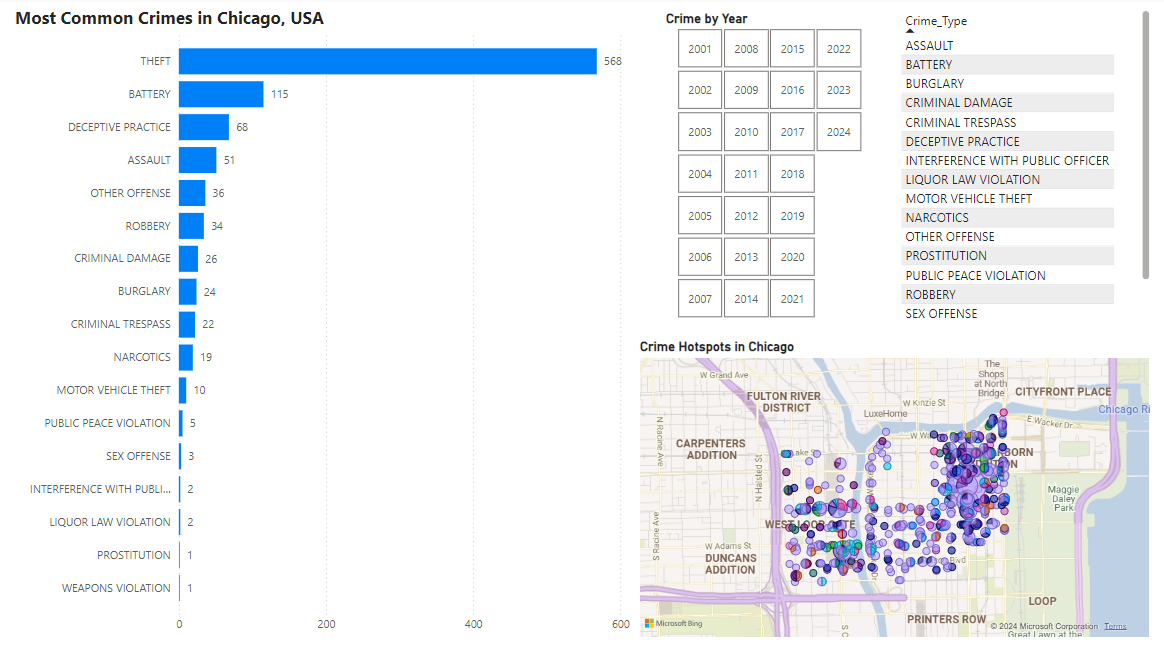

What the dashboard file says about the page in this screenshot:
{"tool":"powerbi","page":{"name":"Most common crime","canvas":[1280,720],"ordinal":0},"visuals":[{"type":"clusteredBarChart","title":"Most Common Crimes in Chicago, USA","fields":{"Category":["chicago_crime.Crime_Type"],"Y":["Count(chicago_crime.Crime_ID)"]},"box":[13.7,11,686.1,697.1],"z":0},{"type":"slicer","title":"Crime Incidents by Year","fields":{"Values":["chicago_crime.Year"]},"box":[720.4,11,251.1,160.5],"z":1000},{"type":"tableEx","fields":{"Values":["chicago_crime.Crime_Type"]},"box":[985.3,11,284,348.5],"z":2000},{"type":"card","title":"Year with Most Crimes","fields":{"Values":["Sum(chicago_crime.Year)"]},"box":[720.4,185.2,251.1,174.3],"z":3000},{"type":"map","fields":{"Y":["Sum(chicago_crime.Latitude)"],"X":["Sum(chicago_crime.Longitude)"],"Size":["Count(chicago_crime.Crime_ID)"],"Series":["chicago_crime.Crime_Type"]},"box":[720.2,376.6,560.1,331.4],"z":4000}]}

Visuals, with their boxes in screenshot pixels (x1, y1, x2, y2), scaled from the page's 1280x720 canvas onto the 1164x651 screenshot:
"Most Common Crimes in Chicago, USA" clusteredBarChart: {"x1": 12, "y1": 10, "x2": 636, "y2": 640}
"Crime Incidents by Year" slicer: {"x1": 655, "y1": 10, "x2": 883, "y2": 155}
tableEx - chicago_crime.Crime_Type: {"x1": 896, "y1": 10, "x2": 1154, "y2": 325}
"Year with Most Crimes" card: {"x1": 655, "y1": 167, "x2": 883, "y2": 325}
map - Sum(chicago_crime.Latitude) x Sum(chicago_crime.Longitude): {"x1": 655, "y1": 341, "x2": 1163, "y2": 640}
